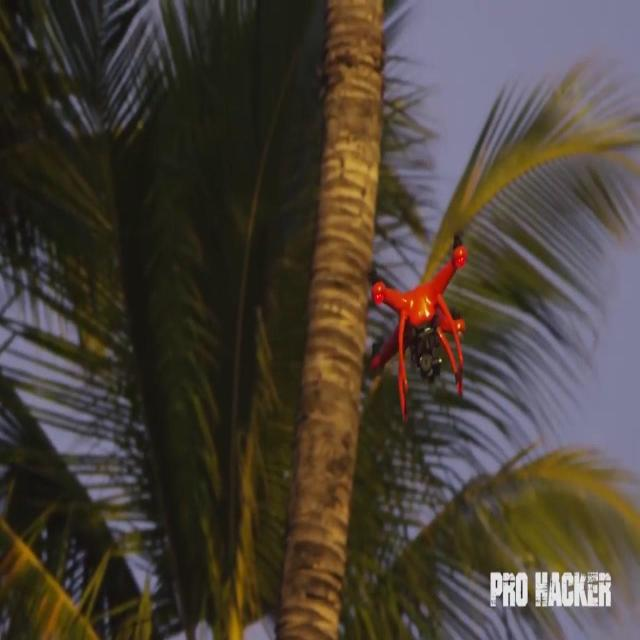drone: (369, 229, 476, 426)
